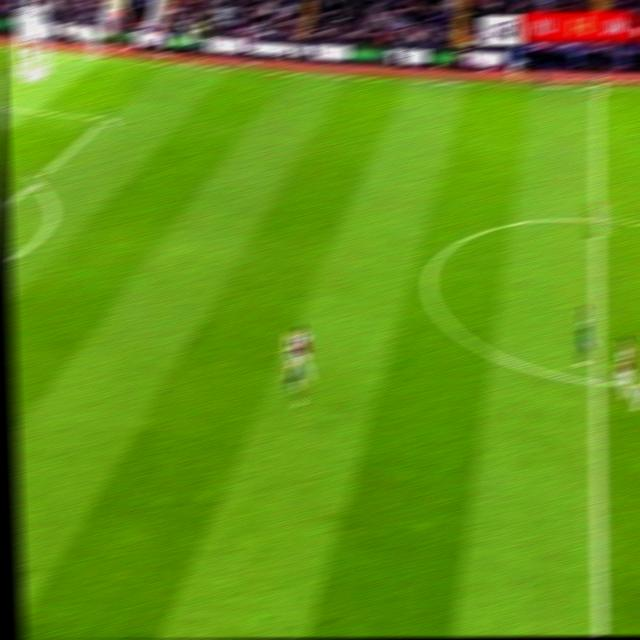bigarea_top_inner: (95, 108, 119, 130)
halfcircle_bottom: (585, 365, 613, 398)
halfcircle_top: (582, 203, 615, 236)
midline_top_intersection: (587, 76, 611, 99)
top_arc_area_intersection: (23, 171, 45, 193)
